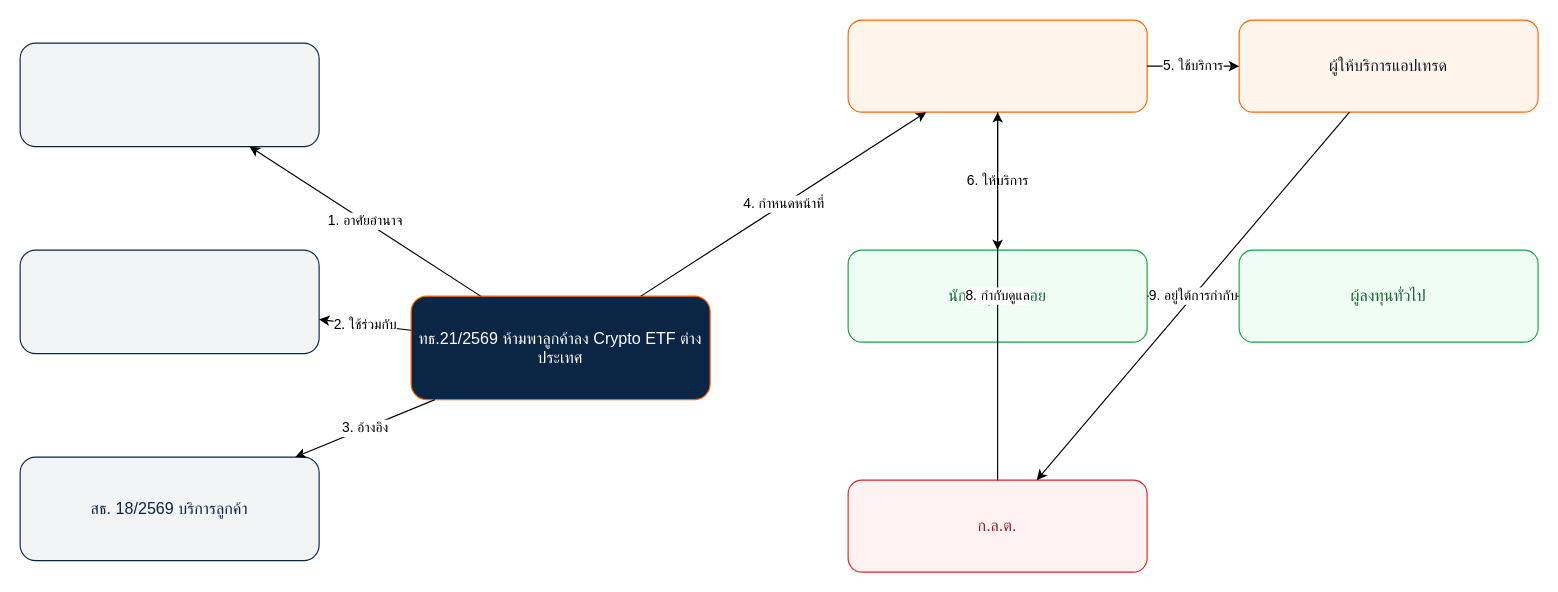
This 1558x592 diagram has some shape labels left out. The centre of each missing label's shape, as x and y in pixels:
"ทธ. 1/2560 บริการลูกค้าสกุลเงินต่างประเทศ" goes at pixel 169 94.
"ทน. 20/2569 การลงทุนของกองทุน" goes at pixel 169 301.
"บริษัทหลักทรัพย์" goes at pixel 997 65.
